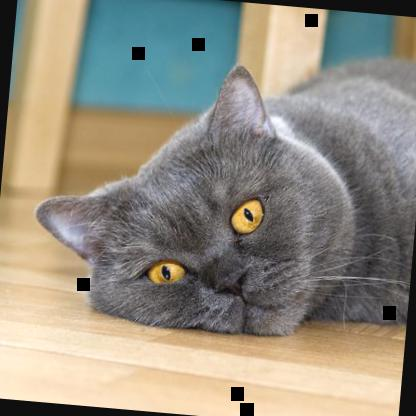cat: (24, 27, 415, 355)
